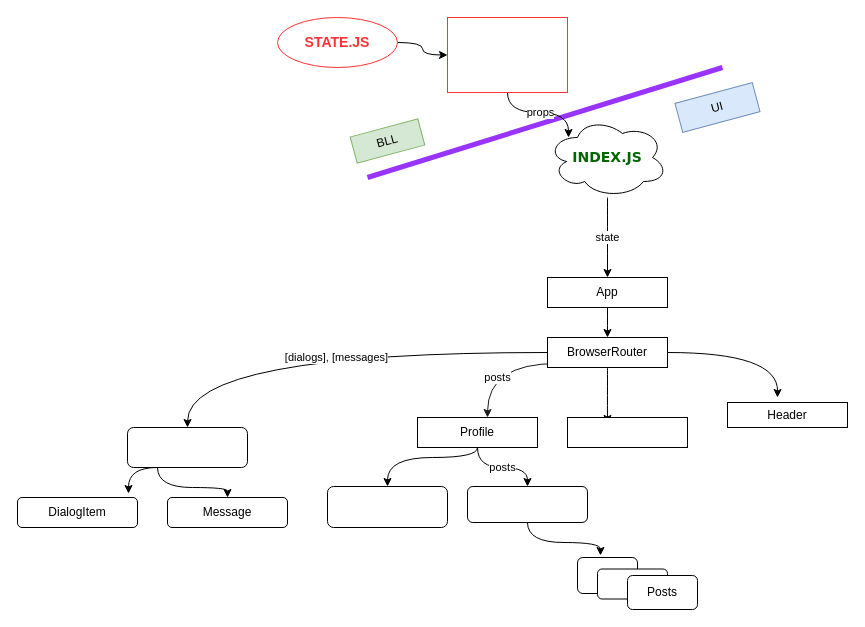
This 865x627 diagram has some shape labels left out. Here are the shapes that lost their labels. From the top down, the box of each, then its label:
(446, 16, 568, 92): let state = { posts: [], messages: [], dialogs: [] }
(126, 426, 248, 468): Dialogs
(566, 416, 688, 448): NavBar
(326, 486, 448, 528): ProfileInfo
(466, 486, 588, 522): MyPosts
